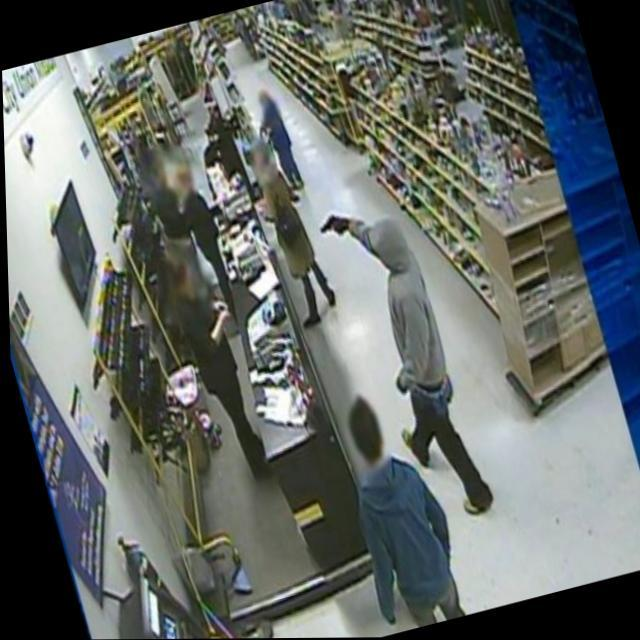weapon: (312, 207, 348, 247)
